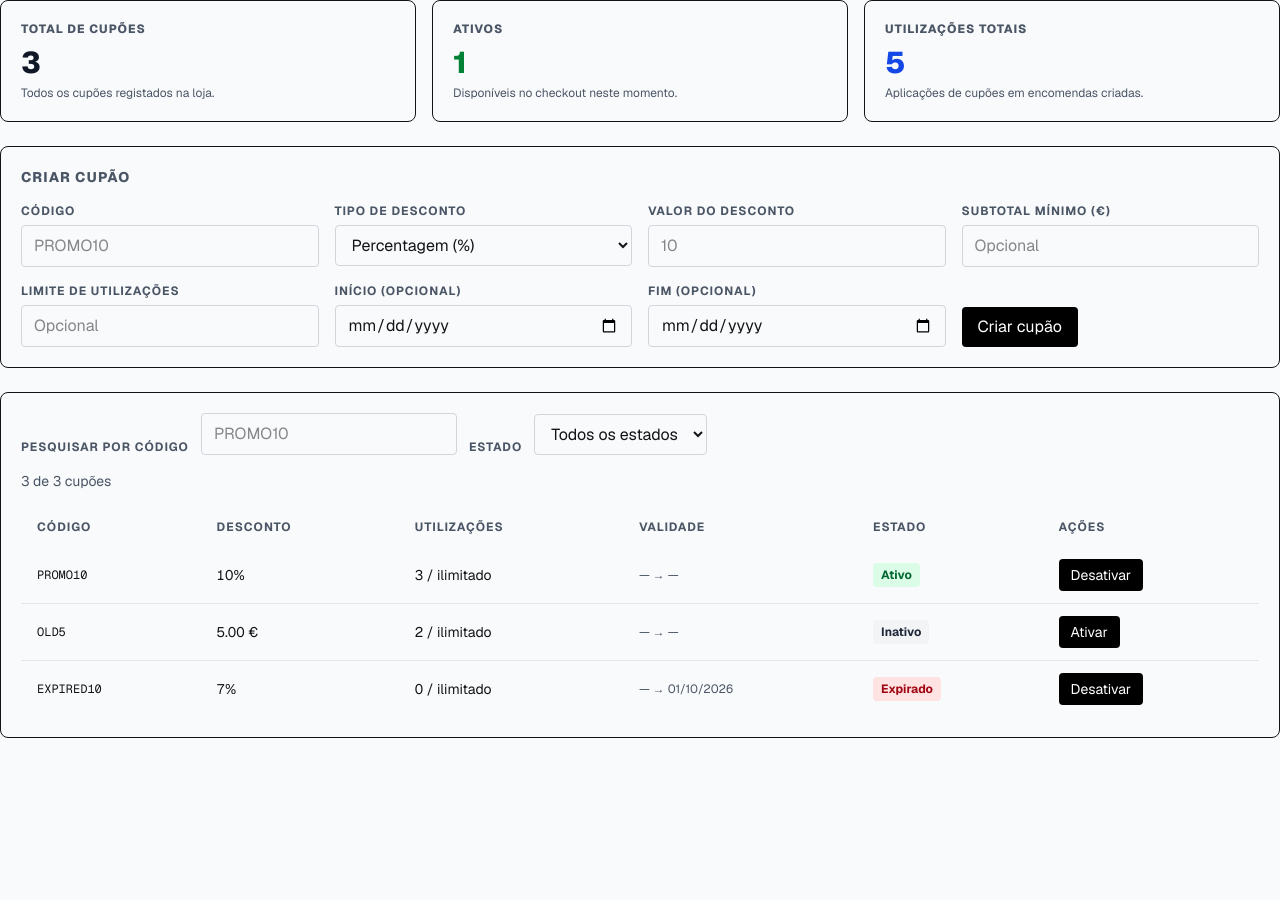
Test: Admin Coupons Client › valida o formulário no cliente antes do pedido
Expected: the text "PROMO10" is shown, [21,547,201,604]
# Sem código: erro no cliente, sem POST.
Click the button "Criar cupão".
click(1020, 327)  # box [962,307,1078,347]
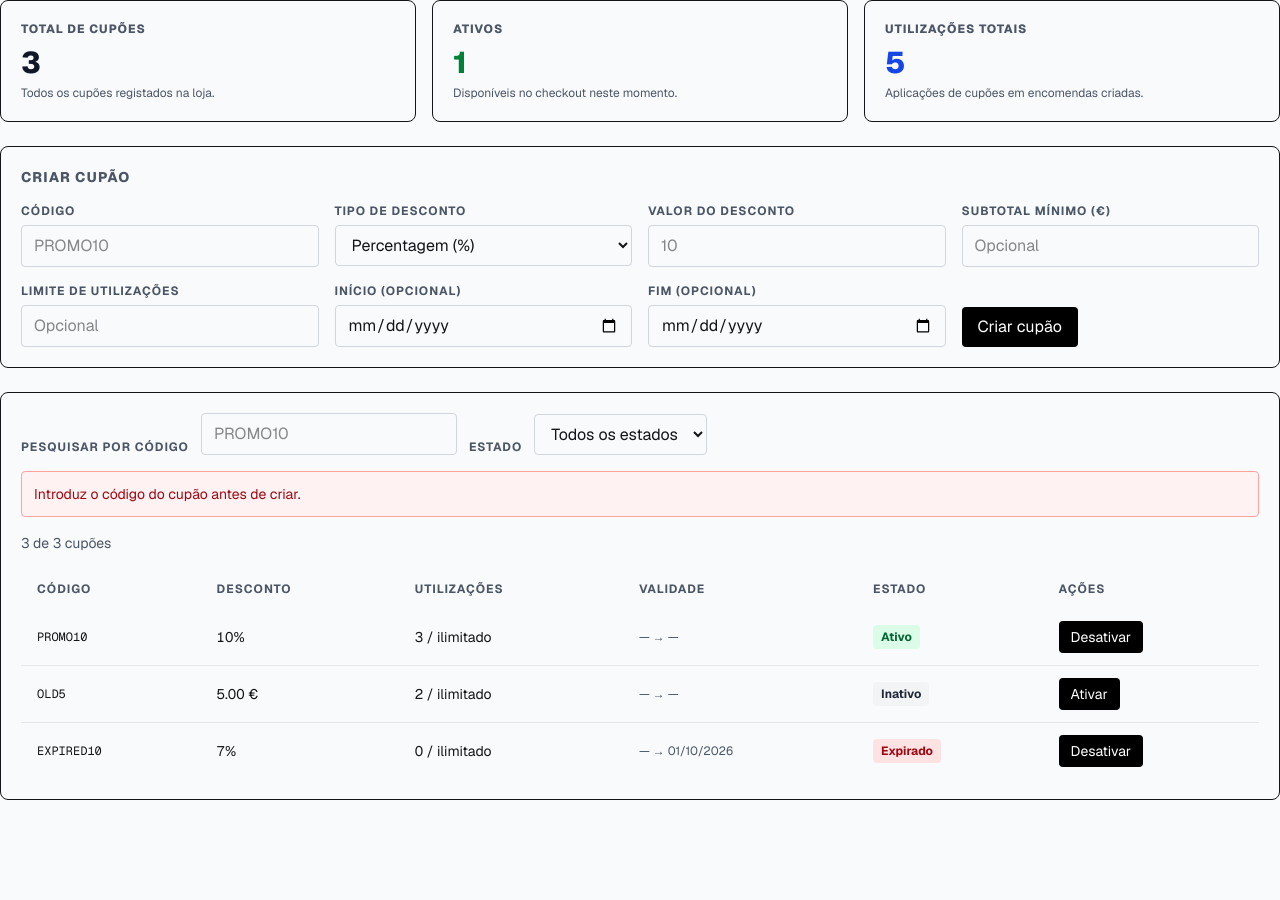
Result: the message reads "Introduz o código do cupão antes de criar." at [34,485,300,503]
